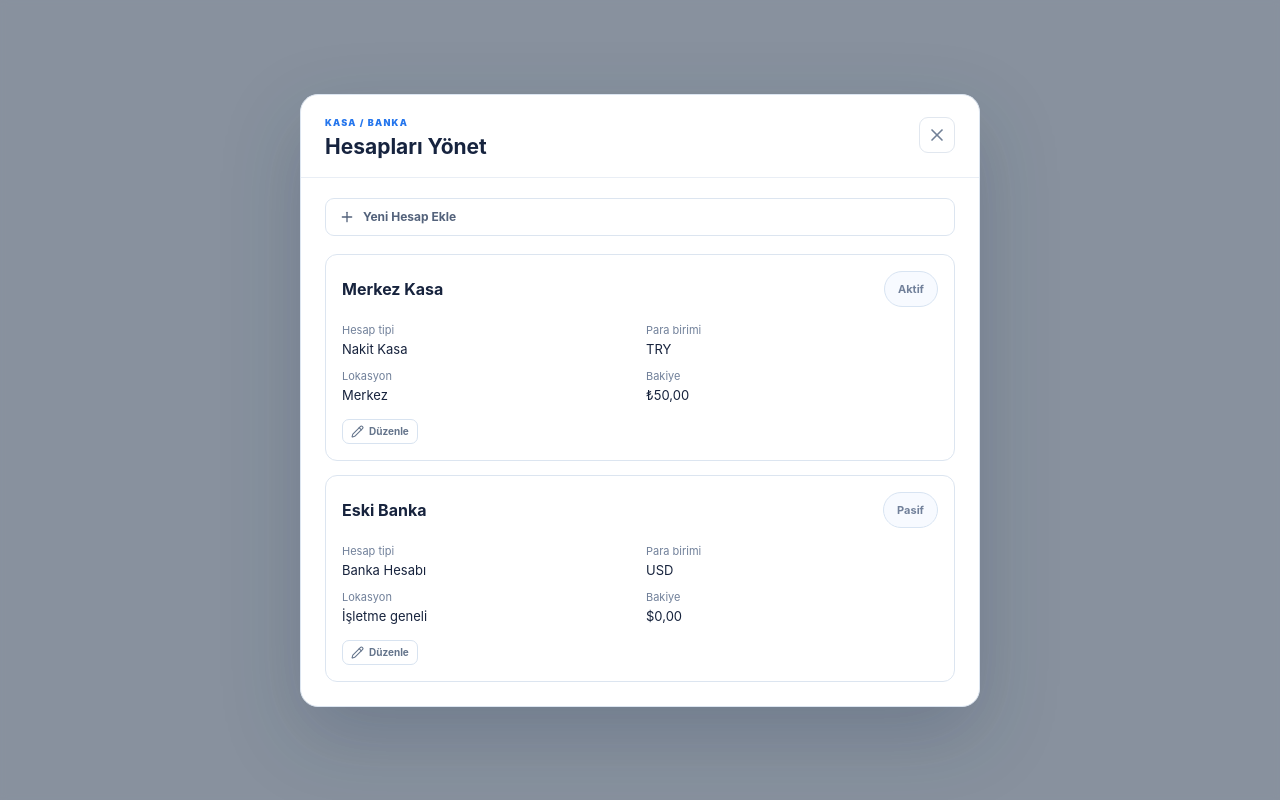
Test case: finance account management › creates via RPC with location null and invalidates both models
Click the button "Yeni Hesap Ekle": [410, 216] box [325,198,955,236]
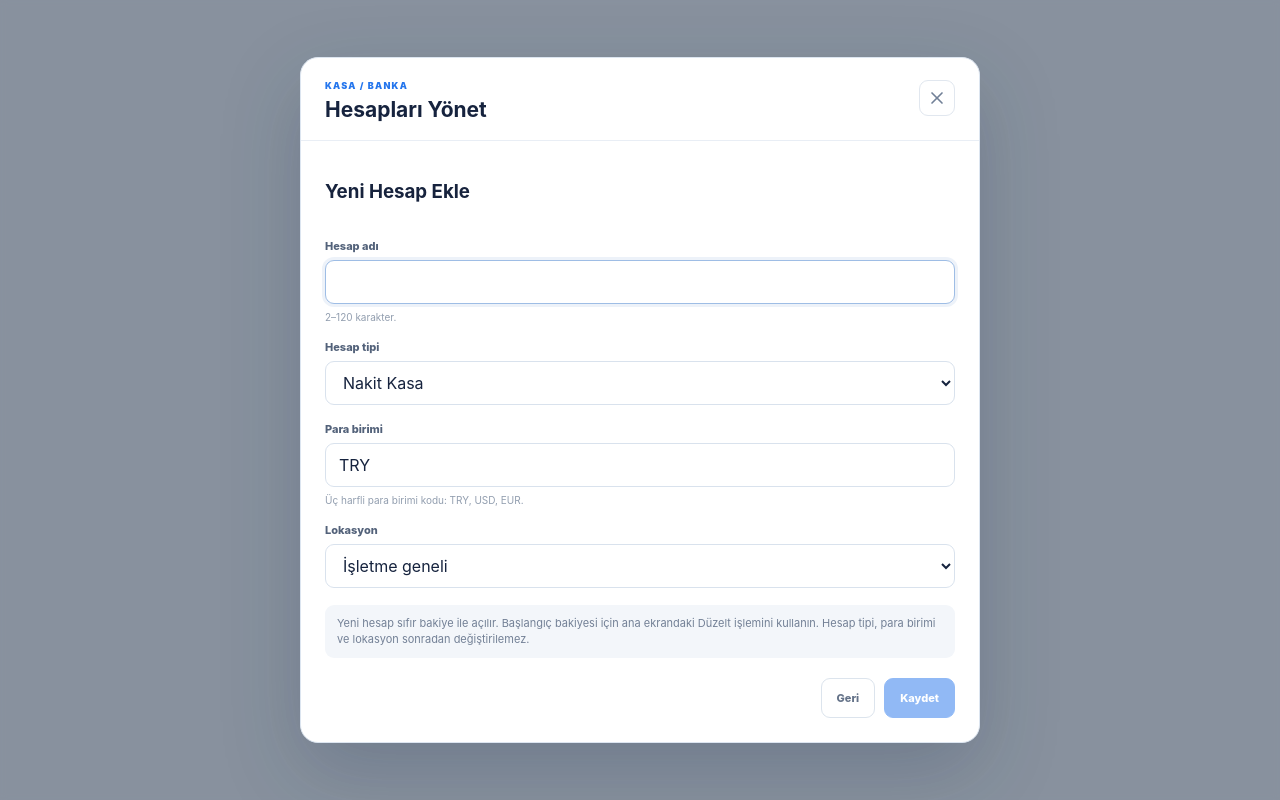
In the field labelled "Hesap adı 2–120 karakter.": [640, 282] box [325,260,955,304], type "  Yeni Hesap  "
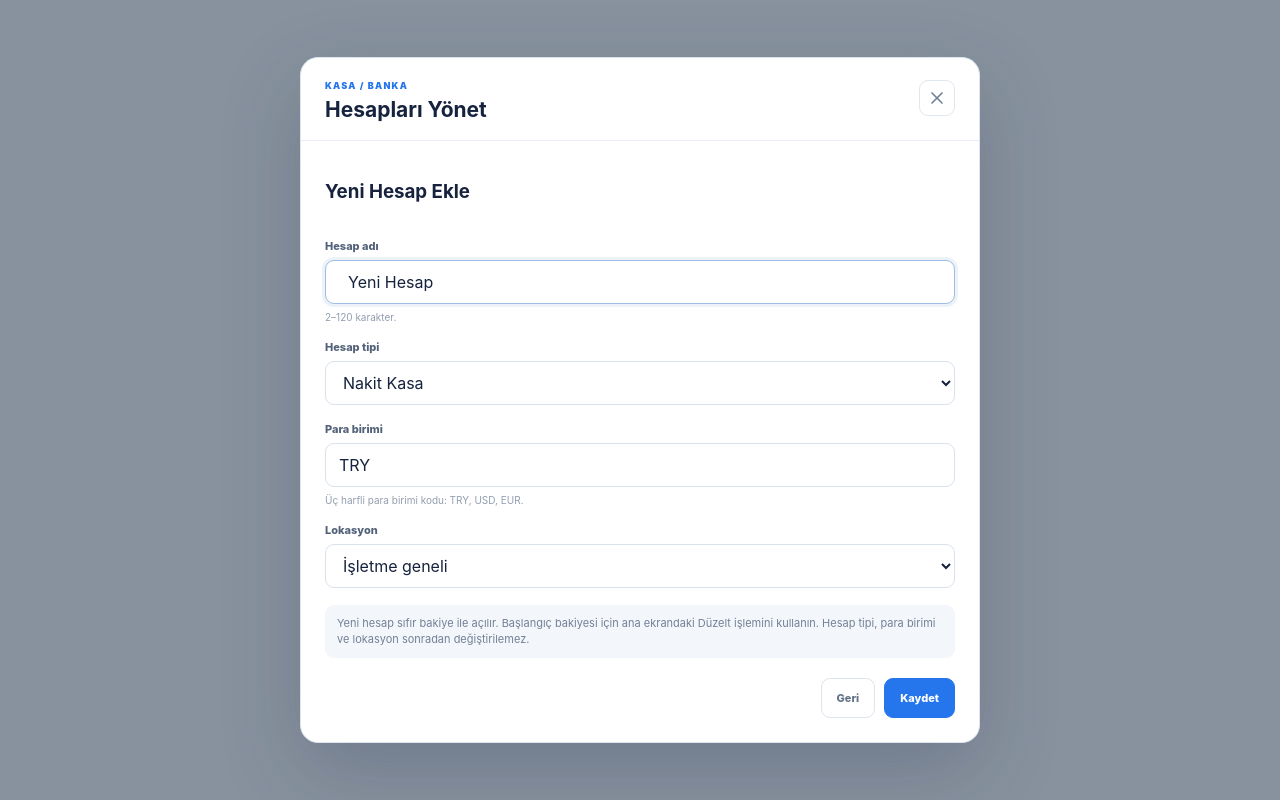
Check: the dropdown labelled "Lokasyon" is enabled, box [325,544,955,588]
Select "Banka Hesabı" in the dropdown labelled "Hesap tipi": [640, 383] box [325,361,955,405]
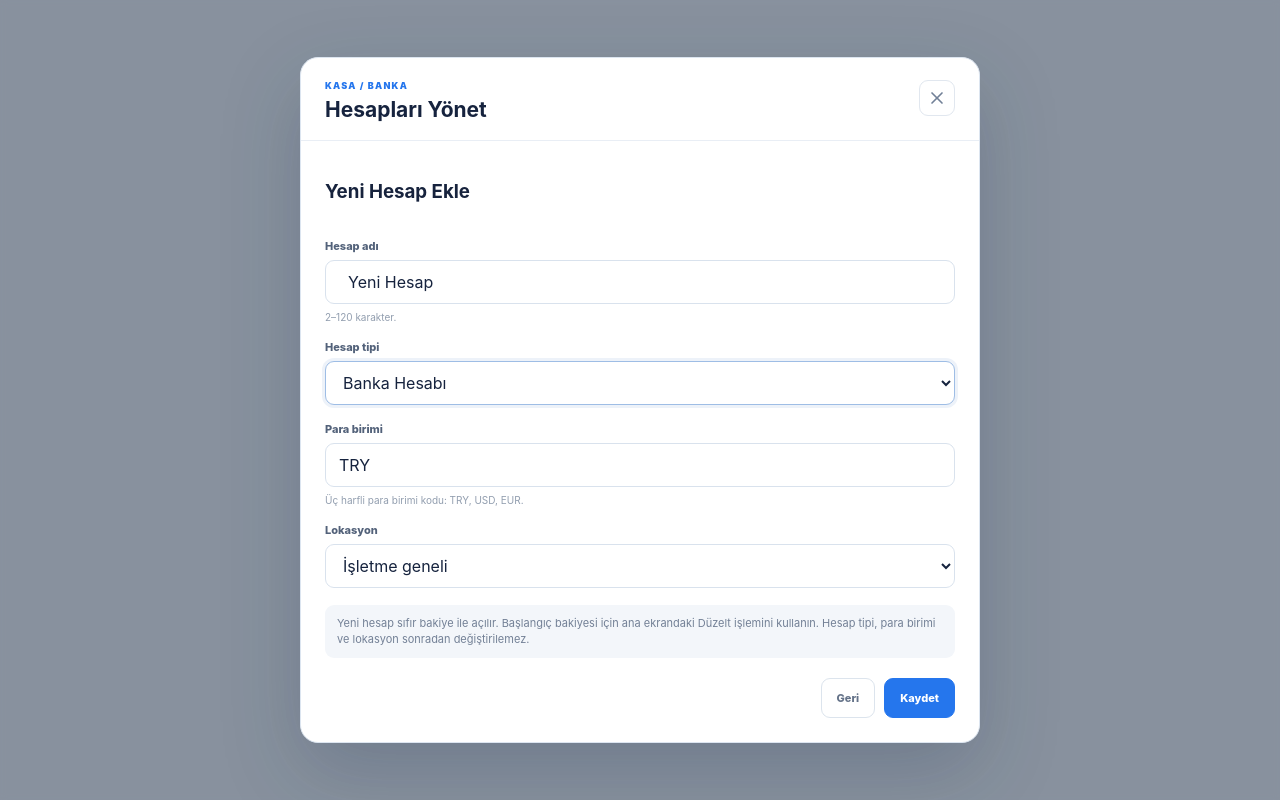
In the field labelled "Para birimi Üç harfli para birimi kodu: TRY, USD, EUR.": [640, 465] box [325,443,955,487], type " usd "
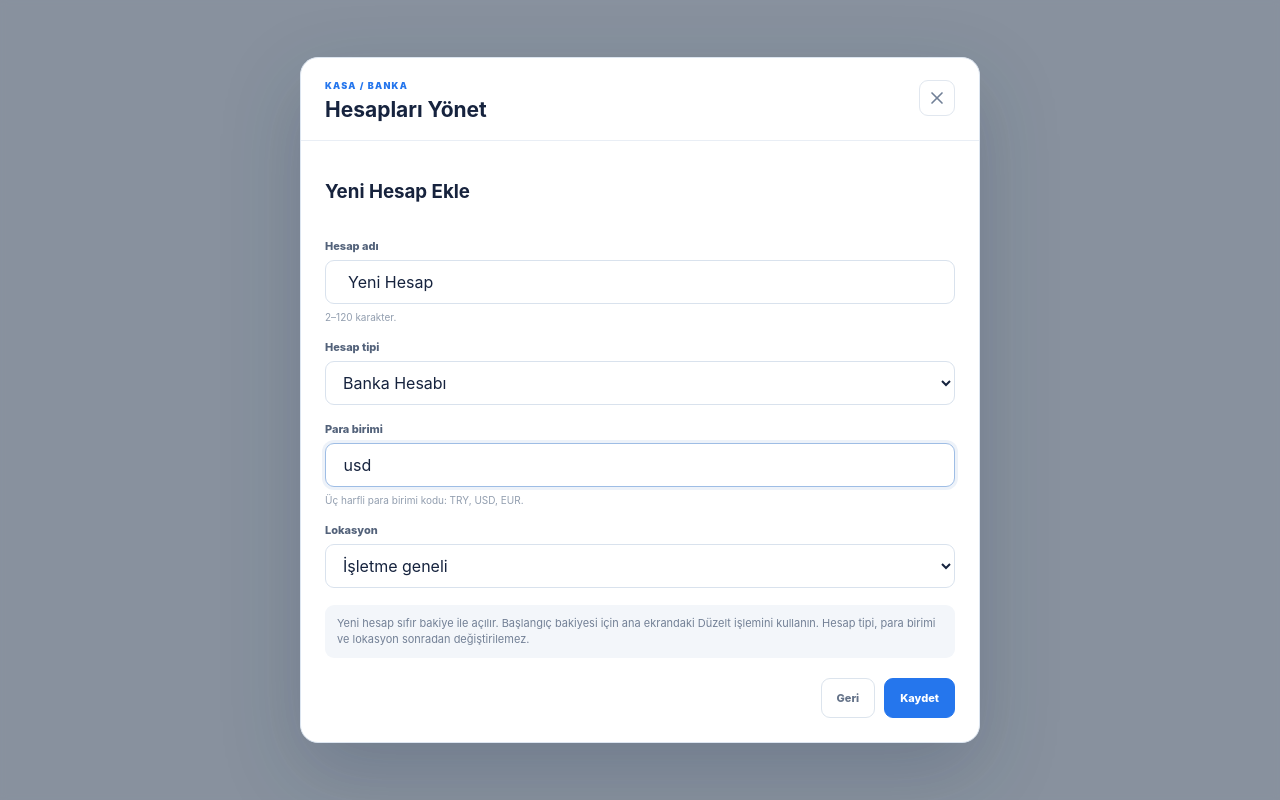
Click the button "Kaydet": [920, 698] box [884,678,955,718]
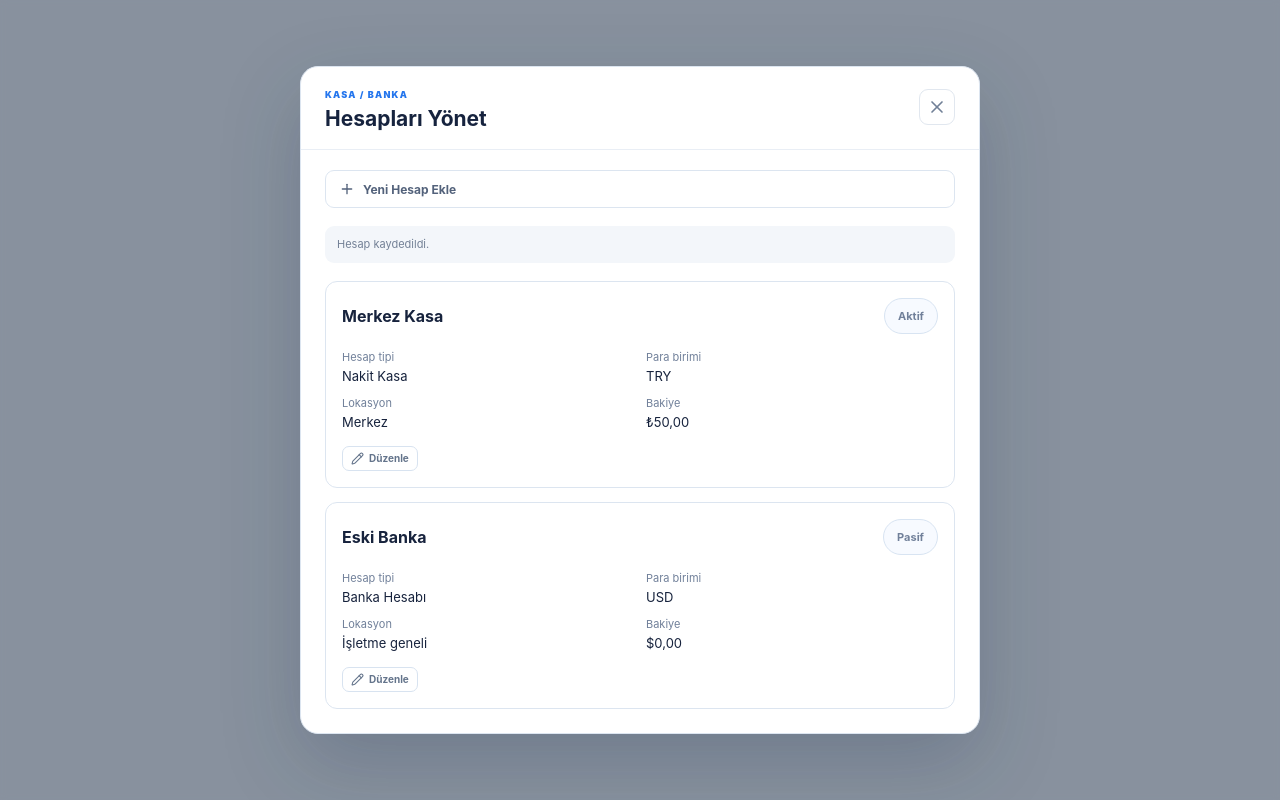
Check: the text "Hesap kaydedildi." is shown, box [325,226,955,263]
